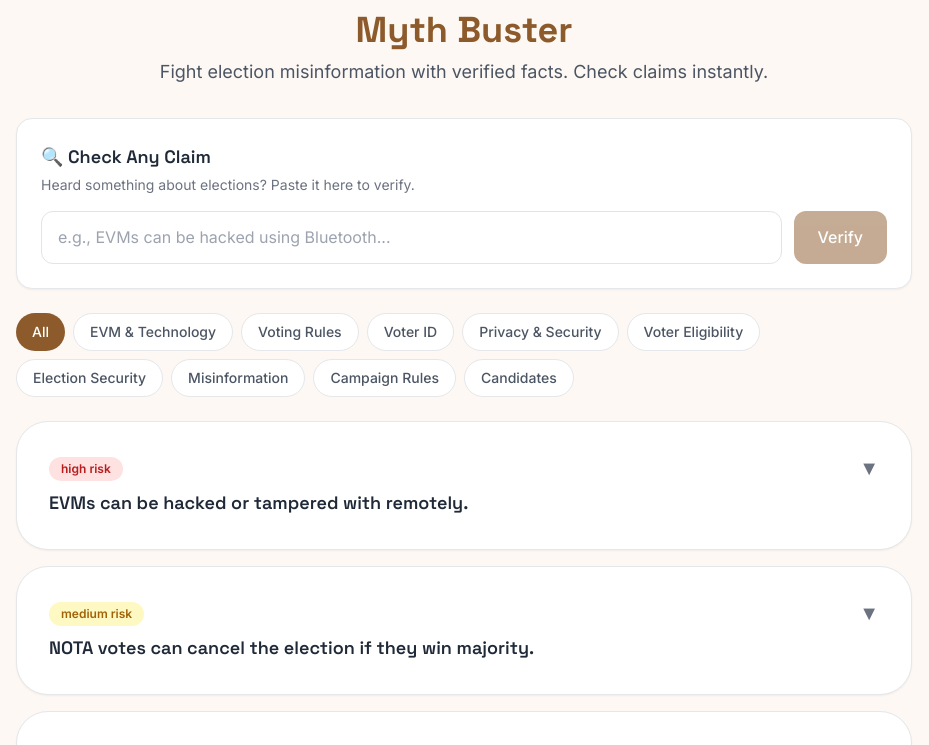
Test: MythBuster Component › enables verify button when claim is entered
The width and height of the screenshot is (929, 745).
Type "EVMs can be hacked" into the field with id "claim-input" at [411, 238], box [41,211,782,264]
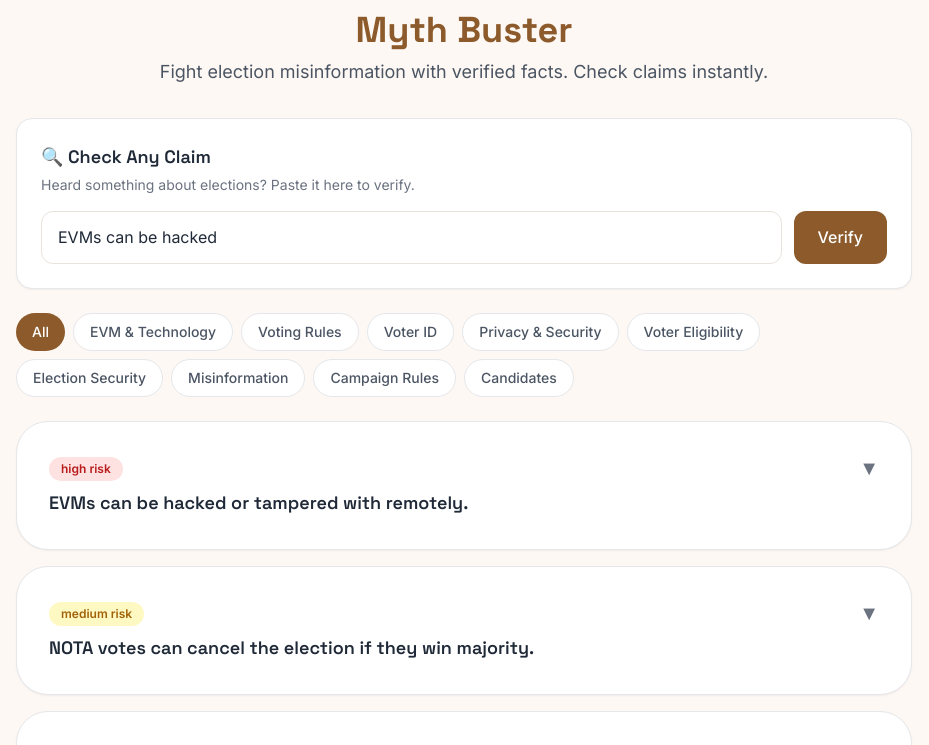
Expected: the button with id "check-claim-btn" is enabled, [794,211,887,264]
